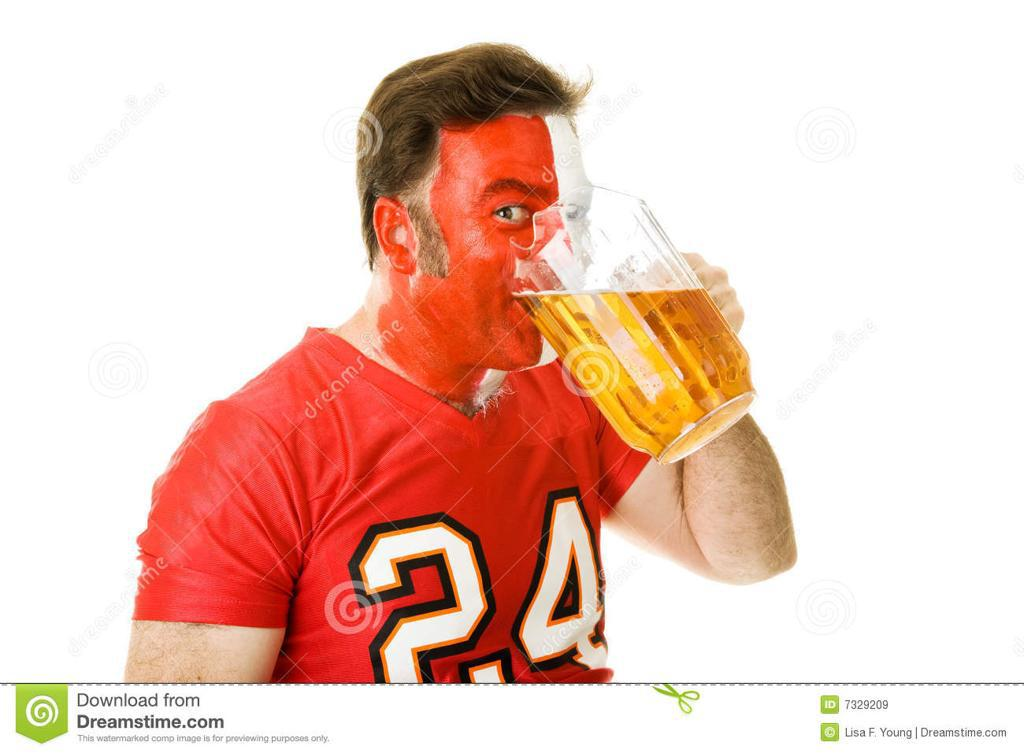face: (415, 123, 585, 369)
